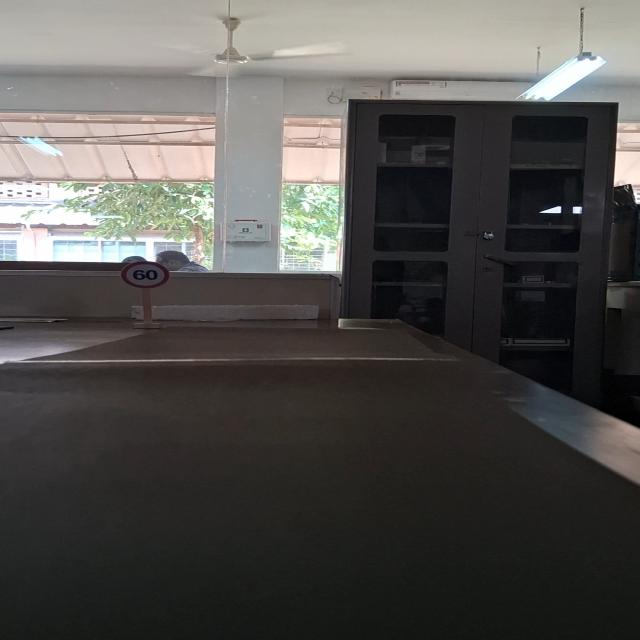Speed60: (119, 260, 171, 290)
